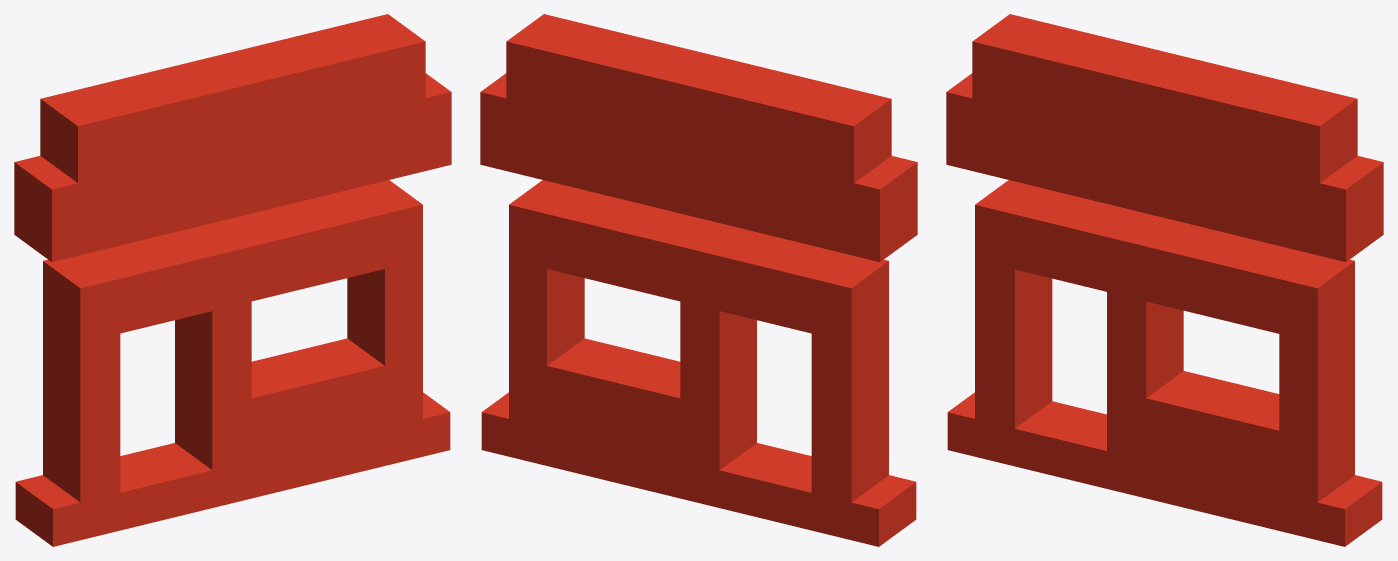
Rendered from Icon_Shop_01.fbx.
3 views of the same model, side by side, from view 1: azimuth 30°, elevation 25°; view 2: azimuth 150°, elevation 25°; view 3: azimuth 330°, elevation 25° (orthographic).
Parts seen in each view (by area): view 1: Icon_Shop_01; view 2: Icon_Shop_01; view 3: Icon_Shop_01.
Boxes of the visible parts, left/top/right/bottom form: Icon_Shop_01: left=14, top=14, right=451, bottom=546; Icon_Shop_01: left=480, top=14, right=917, bottom=546; Icon_Shop_01: left=946, top=14, right=1383, bottom=546.
Size of the model in its own units: 74.12 by 73.46 by 12.06.
